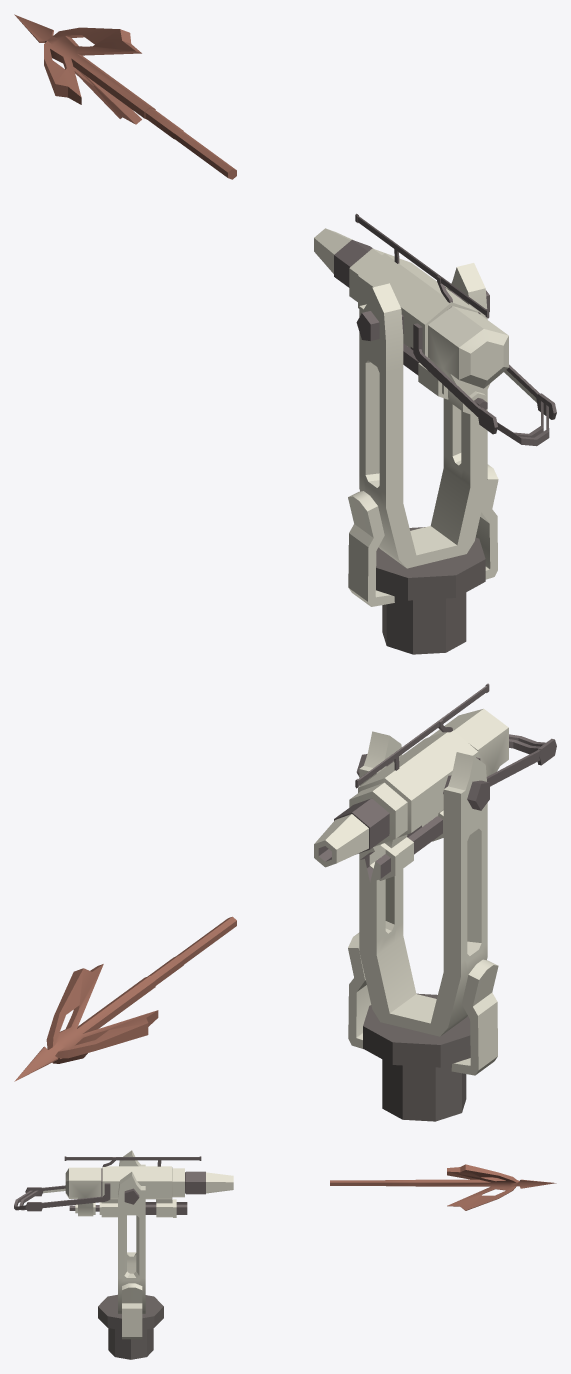
Rendered from Longboi Harpoon.fbx.
3 views of the same model, one above another, from view 1: azimuth 30°, elevation 25°; view 2: azimuth 150°, elevation 25°; view 3: azimuth 270°, elevation 25° (orthographic). The views are drawn at different scales.
Visible parts, largest first — view 1: Harpoon T Base, Harpoon T Gun, Harpoon T Bolt; view 2: Harpoon T Base, Harpoon T Gun, Harpoon T Bolt; view 3: Harpoon T Gun, Harpoon T Base, Harpoon T Bolt.
Part boxes in pixels (x1,y1,x2,y2): Harpoon T Base: (348,263,498,654); Harpoon T Gun: (314,213,556,446); Harpoon T Bolt: (14,14,236,179); Harpoon T Base: (348,731,498,1121); Harpoon T Gun: (314,683,556,882); Harpoon T Bolt: (14,916,236,1081); Harpoon T Gun: (14,1156,233,1217); Harpoon T Base: (98,1150,163,1359); Harpoon T Bolt: (330,1164,556,1210).
Bounding box in the file's own units: 103 × 275 × 697.
